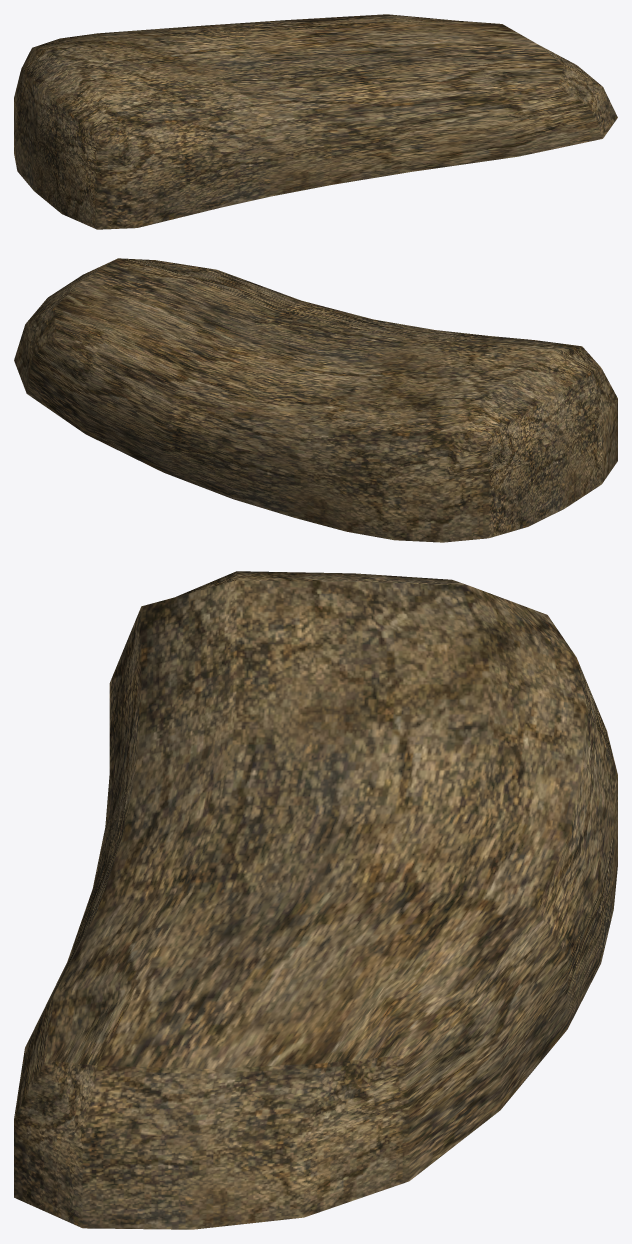
Rendered from CH09_SMAUG_PLAYSURFACE_LONELYMOUNTAIN_BOX03.fbx.
3 renders of one model, top to bottom at view 1: azimuth 30°, elevation 25°; view 2: azimuth 150°, elevation 25°; view 3: azimuth 270°, elevation 25°, orthographic. The views are drawn at different scales.
Parts seen in each view (by area): view 1: CH09_SMAUG_PLAYSURFACE_LONELYMOUNTAIN_BOX03; view 2: CH09_SMAUG_PLAYSURFACE_LONELYMOUNTAIN_BOX03; view 3: CH09_SMAUG_PLAYSURFACE_LONELYMOUNTAIN_BOX03.
Boxes of the visible parts, x1,y1,x2,y2 form: CH09_SMAUG_PLAYSURFACE_LONELYMOUNTAIN_BOX03: [14, 14, 617, 229]; CH09_SMAUG_PLAYSURFACE_LONELYMOUNTAIN_BOX03: [14, 258, 617, 542]; CH09_SMAUG_PLAYSURFACE_LONELYMOUNTAIN_BOX03: [14, 571, 617, 1229].
Bounding box in the file's own units: 111388 × 22131 × 58885.
Materials: 1 (1 with a texture image).
